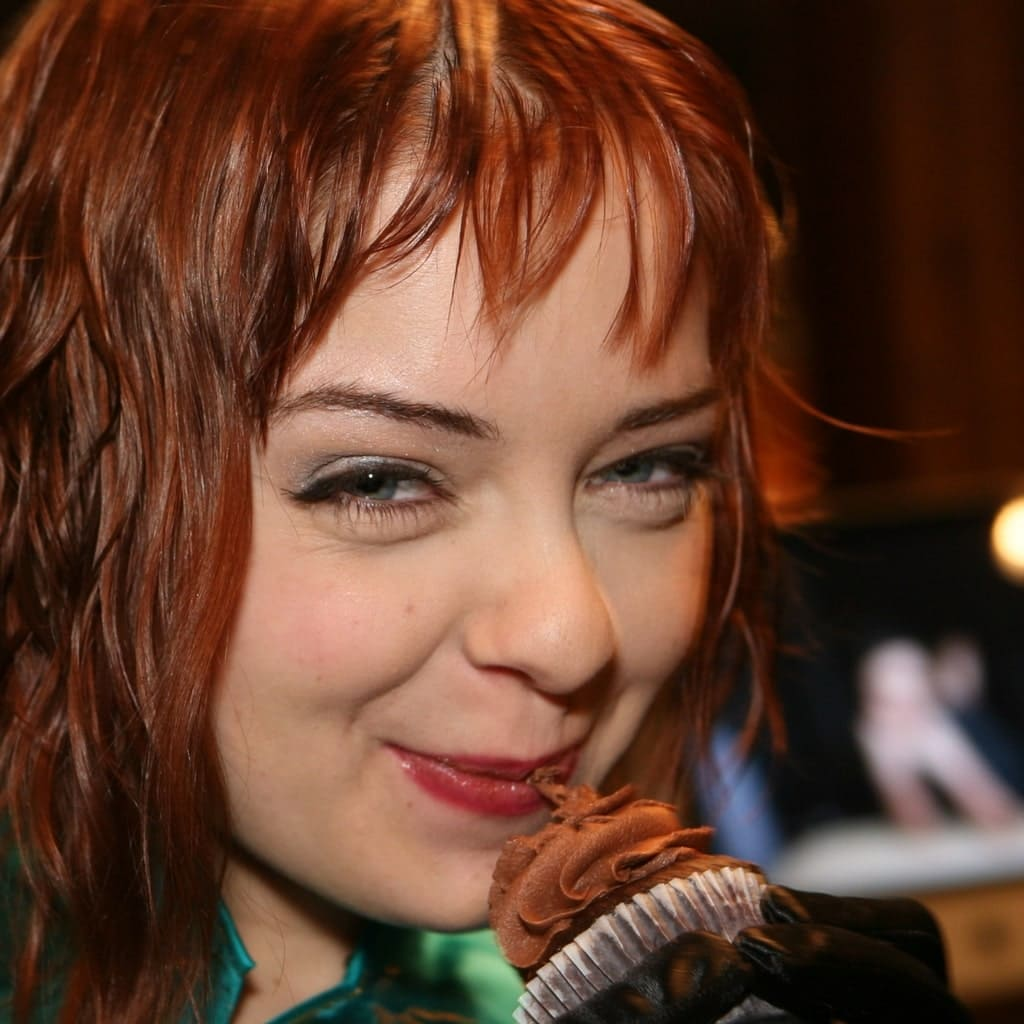without_mask: (221, 257, 707, 910)
